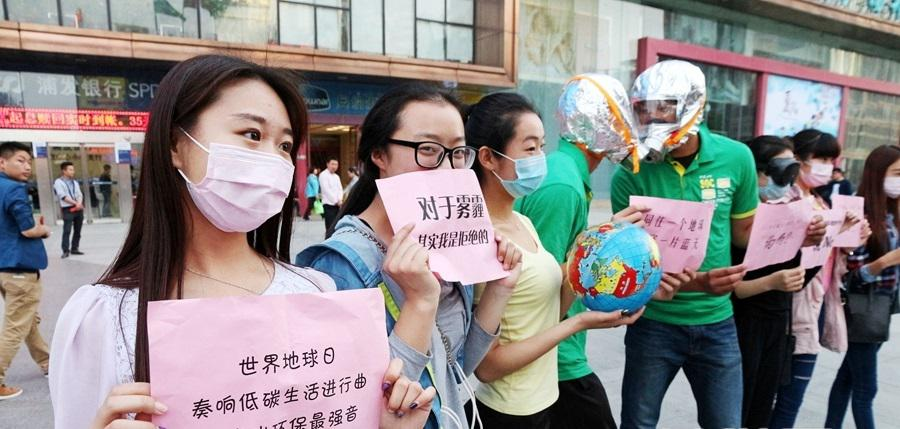NONE: (389, 129, 472, 212), (11, 155, 34, 181)
OK: (176, 105, 305, 234), (492, 134, 556, 198), (755, 160, 796, 204), (802, 155, 836, 189), (884, 164, 900, 200)
